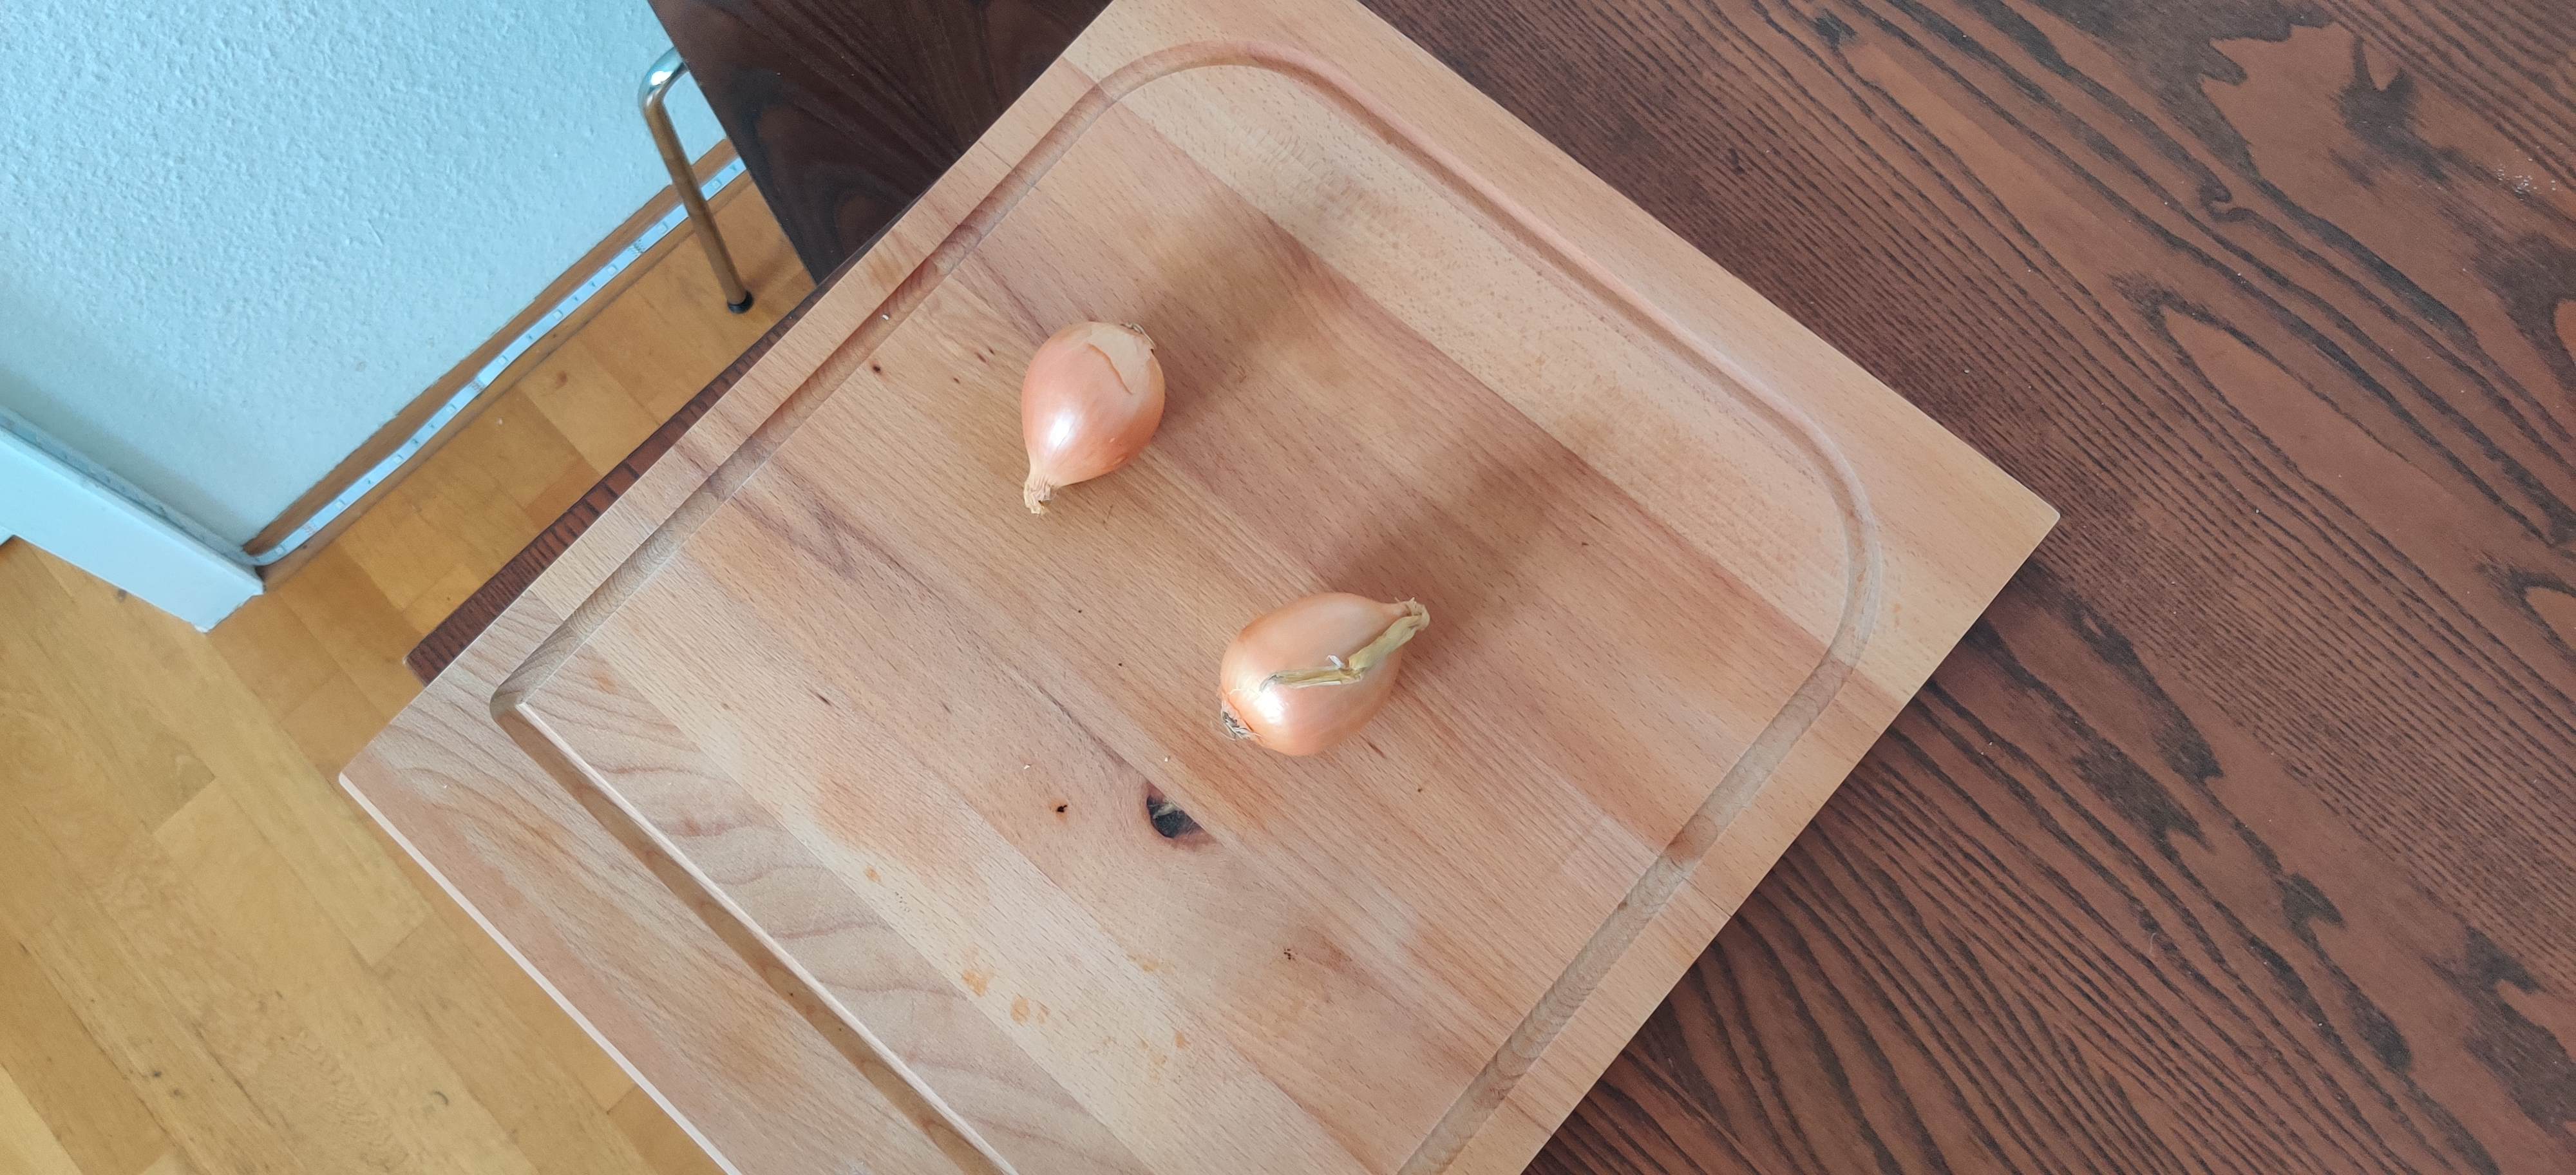Zwiebel: (1222, 592, 1431, 759), (1020, 320, 1165, 513)
